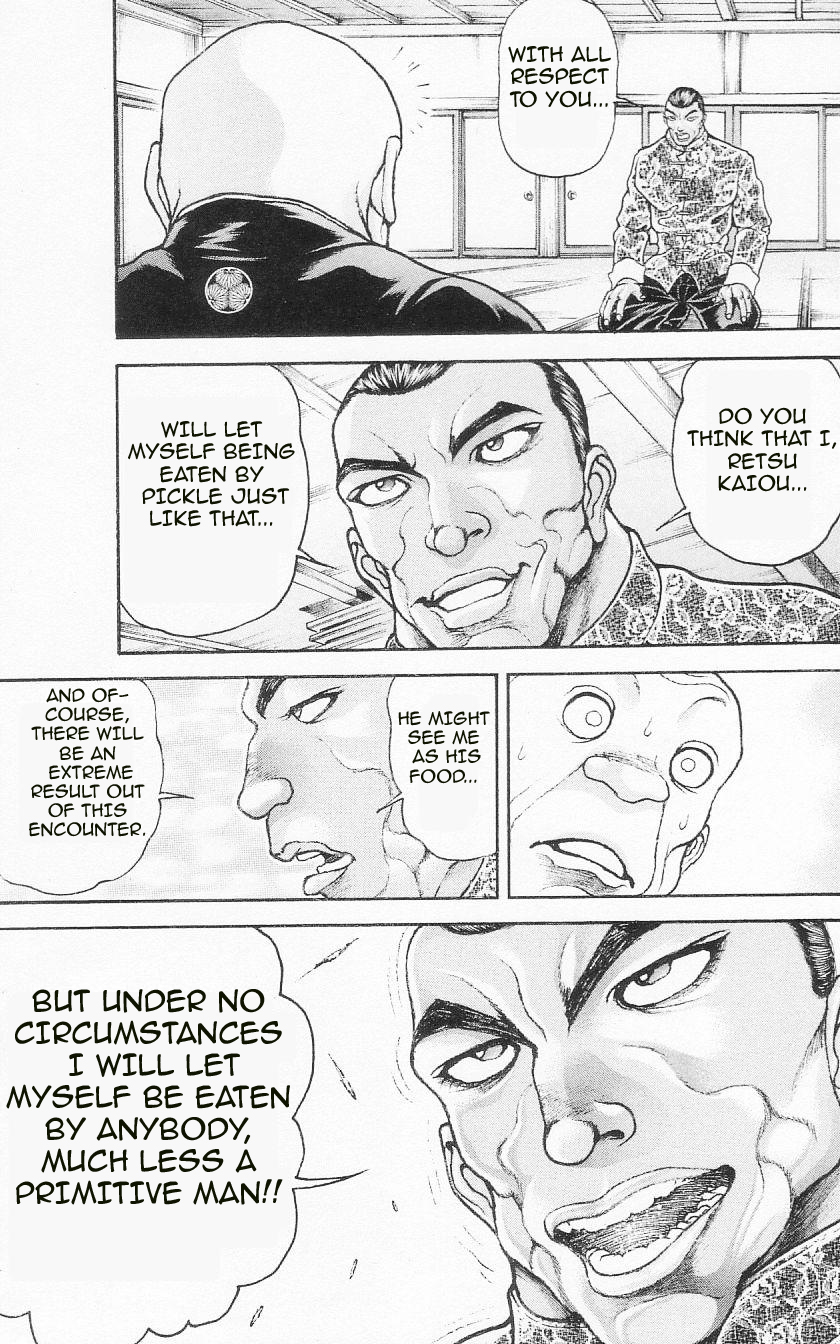Baloon: (5, 925, 312, 1344), (123, 372, 308, 641), (663, 359, 840, 565), (1, 682, 165, 895), (384, 678, 502, 865), (492, 6, 614, 176)
Vignetta: (6, 927, 840, 1344), (116, 2, 840, 346), (114, 361, 840, 655), (1, 669, 496, 906), (506, 674, 840, 899)
